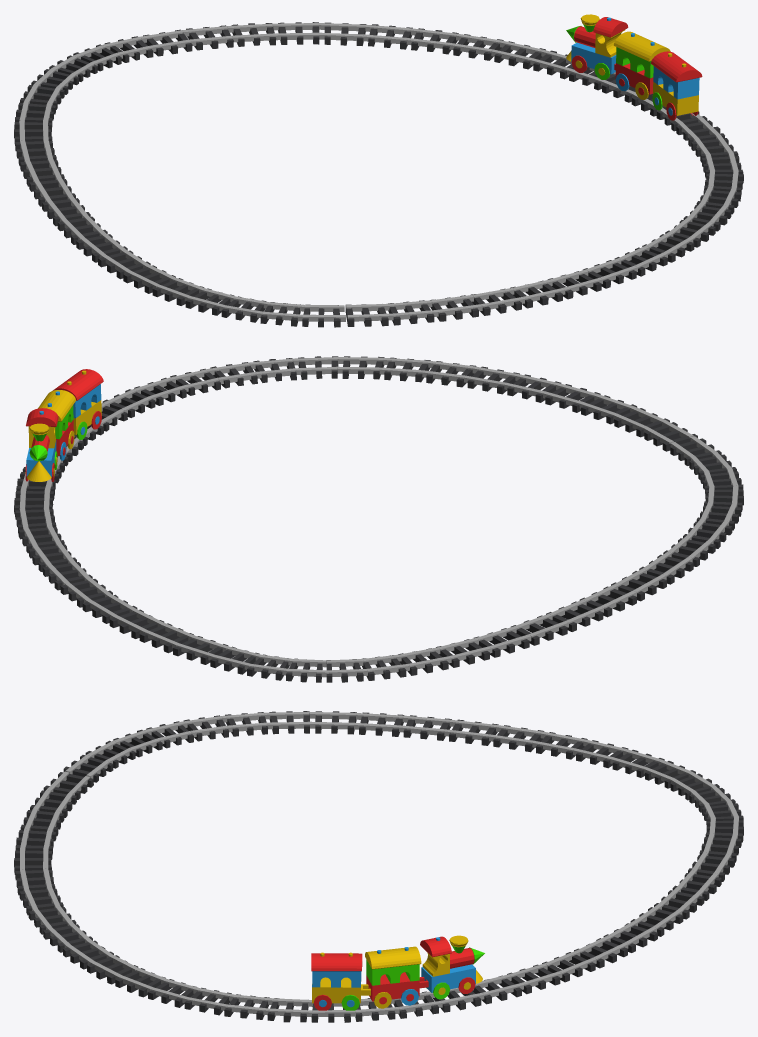
The model's file is TrenFinalFixed2.fbx.
The picture shows the model from 3 angles, top to bottom: view 1: azimuth 30°, elevation 25°; view 2: azimuth 150°, elevation 25°; view 3: azimuth 270°, elevation 25°; orthographic projection. The views are drawn at different scales.
Visible parts, largest first — view 1: Vias, TrenJuguete.001; view 2: Vias, TrenJuguete.001; view 3: Vias, TrenJuguete.001.
Boxes of the visible parts, x1,y1,x2,y2 form: Vias: [14, 22, 743, 327]; TrenJuguete.001: [566, 14, 702, 120]; Vias: [14, 356, 743, 682]; TrenJuguete.001: [25, 369, 103, 481]; Vias: [14, 711, 743, 1022]; TrenJuguete.001: [311, 935, 484, 1010].
Bounding box in the file's own units: 5728 × 613 × 5970.
